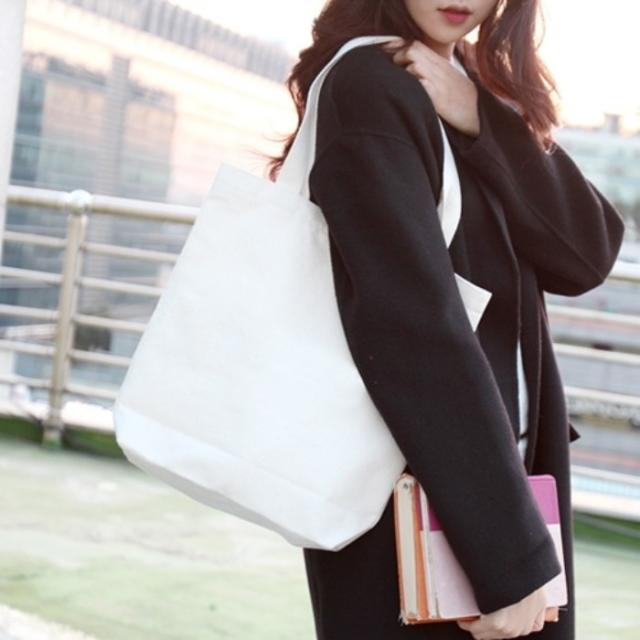ecobag: (86, 51, 494, 542)
